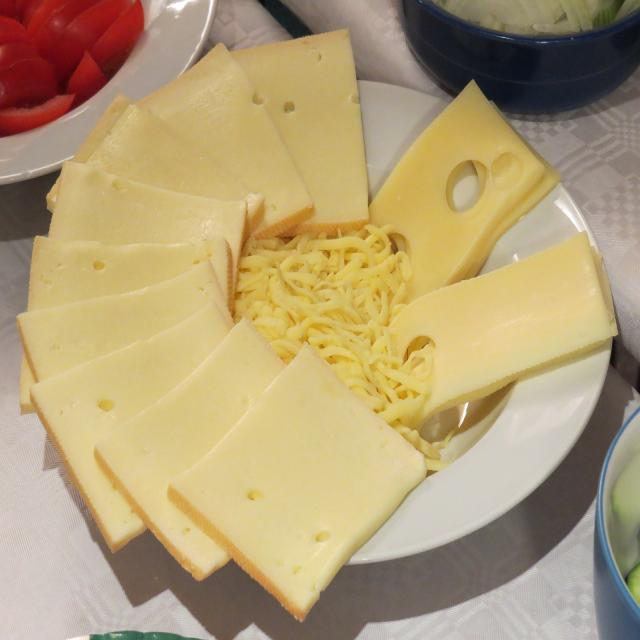cheese: (171, 345, 423, 610), (92, 320, 294, 581), (32, 307, 240, 548), (397, 230, 609, 413), (371, 79, 551, 290), (146, 45, 310, 232), (228, 29, 369, 223), (72, 100, 258, 245), (19, 261, 238, 384), (48, 155, 246, 253), (24, 229, 232, 321)
